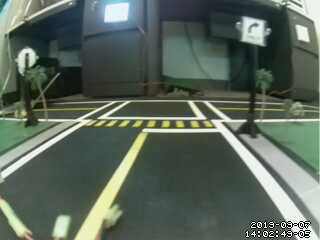Right_only_sign: (235, 12, 268, 49)
